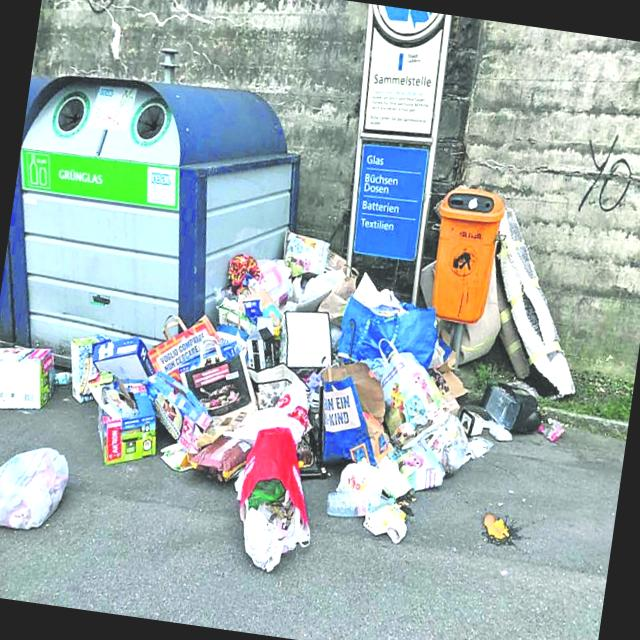garbage: (0, 106, 565, 632)
